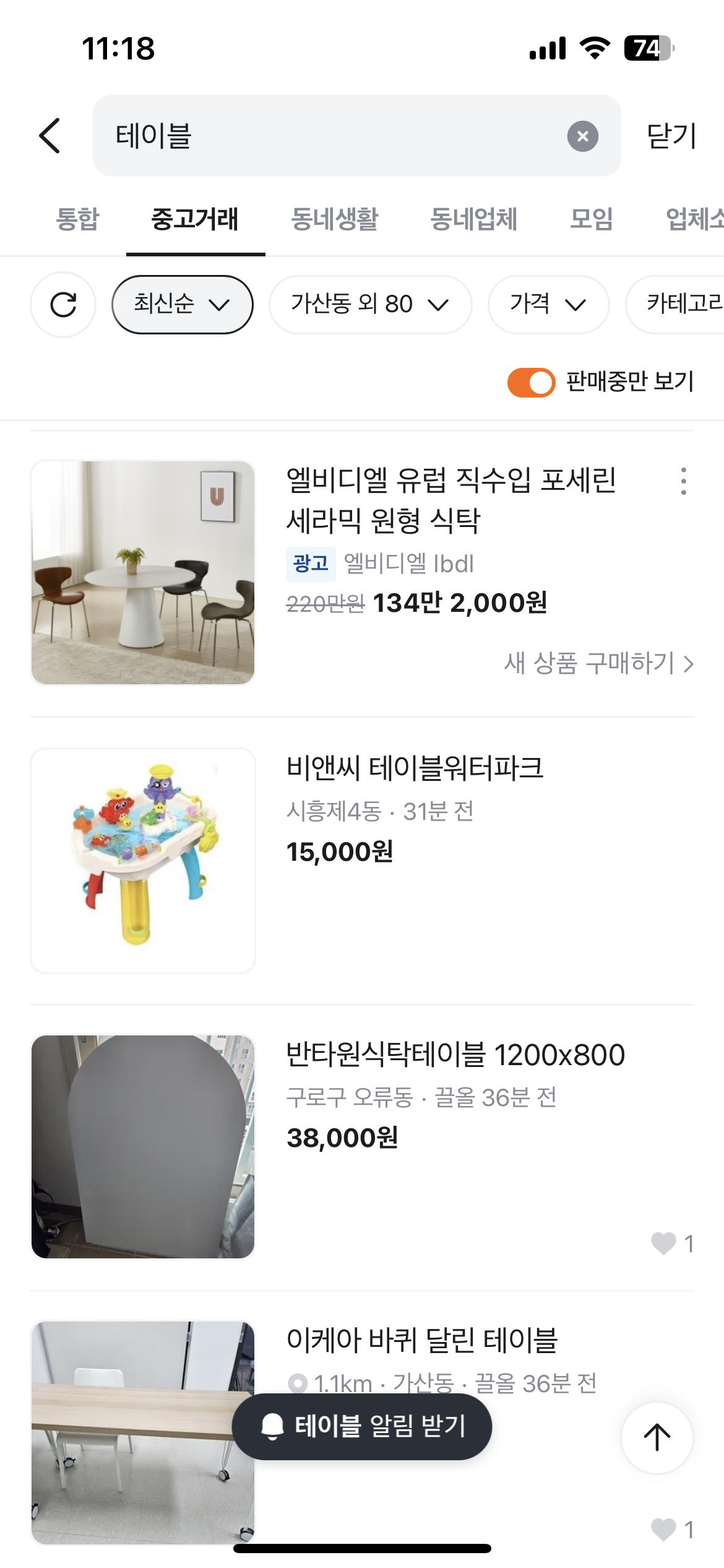button: (229, 1397, 491, 1466), (268, 270, 481, 341), (481, 640, 705, 692), (479, 270, 625, 345), (113, 272, 256, 341), (130, 198, 272, 264), (627, 270, 724, 346), (425, 188, 526, 254), (617, 1395, 693, 1480), (281, 196, 390, 250), (31, 266, 97, 343), (658, 194, 724, 254), (635, 114, 710, 163), (654, 1220, 712, 1282), (561, 190, 619, 244), (52, 196, 113, 246), (503, 361, 565, 405), (27, 111, 76, 163), (644, 1509, 712, 1544), (557, 116, 613, 157)
popup: (0, 419, 724, 718)
